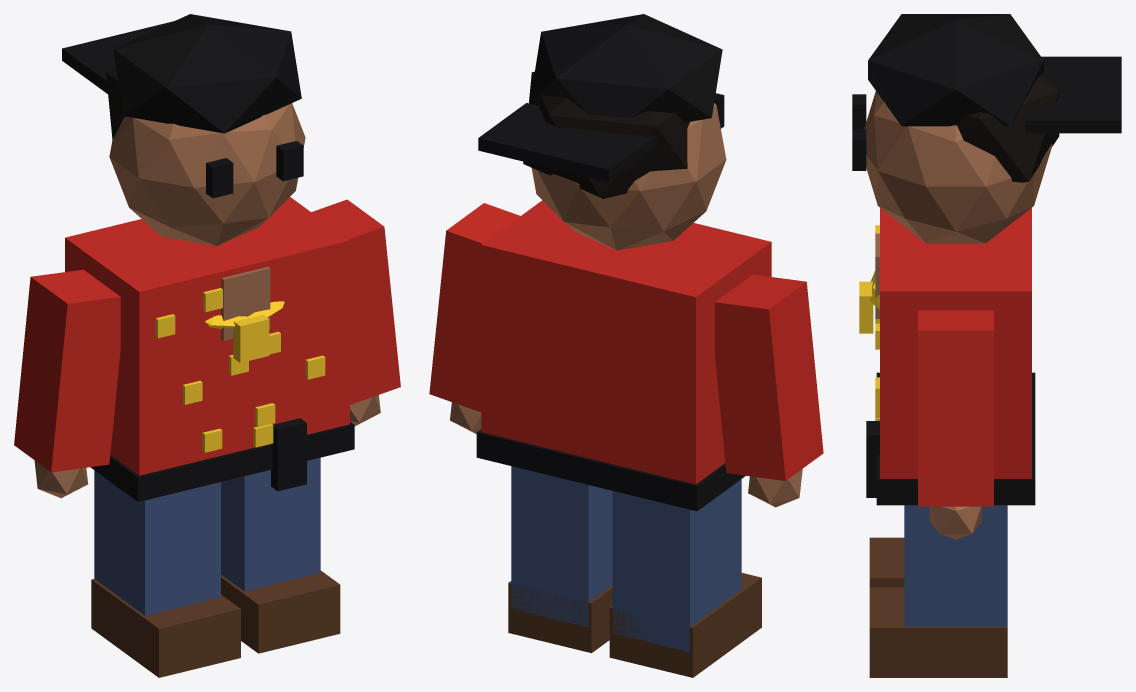
File: Org Pistolero.fbx
The picture shows the model from 3 angles, left to right: view 1: azimuth 30°, elevation 25°; view 2: azimuth 150°, elevation 25°; view 3: azimuth 270°, elevation 25°; orthographic projection. The views are drawn at different scales.
Visible parts, largest first — view 1: Org Pistolero; view 2: Org Pistolero; view 3: Org Pistolero.
Boxes of the visible parts, x1,y1,x2,y2 form: Org Pistolero: (14, 14, 400, 677); Org Pistolero: (429, 14, 823, 677); Org Pistolero: (852, 14, 1121, 677).
Bounding box in the file's own units: 0.5977 × 0.98 × 0.39.
